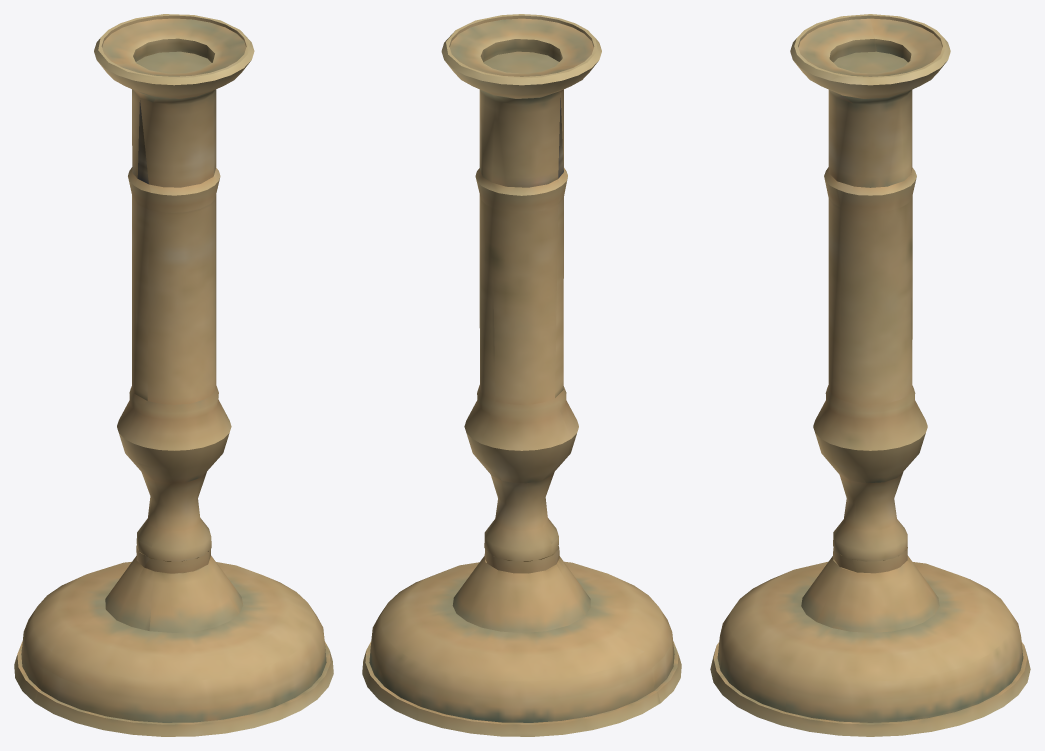
Rendered from candlestick-holder-g.glb.
The picture shows the model from 3 angles, left to right: view 1: azimuth 30°, elevation 25°; view 2: azimuth 150°, elevation 25°; view 3: azimuth 270°, elevation 25°; orthographic projection.
Visible parts, largest first — view 1: candlestick-holder-g; view 2: candlestick-holder-g; view 3: candlestick-holder-g.
Boxes of the visible parts, bbox=[...] form: candlestick-holder-g: bbox=[14, 14, 333, 736]; candlestick-holder-g: bbox=[362, 14, 681, 736]; candlestick-holder-g: bbox=[710, 14, 1030, 736].
Bounding box in the file's own units: 0.08 × 0.1717 × 0.08.
Materials: 1 (1 with a texture image).
